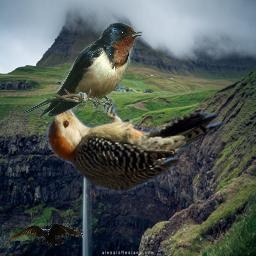Crow: (9, 223, 84, 249)
Swallow: (22, 22, 143, 117)
Woodpecker: (33, 81, 231, 193)
